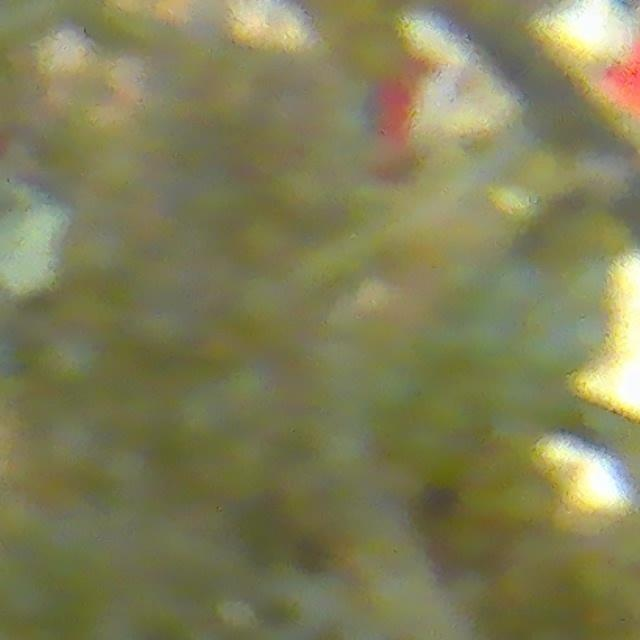SeaGrape: (36, 326, 109, 395), (496, 470, 558, 533), (231, 370, 278, 418)
